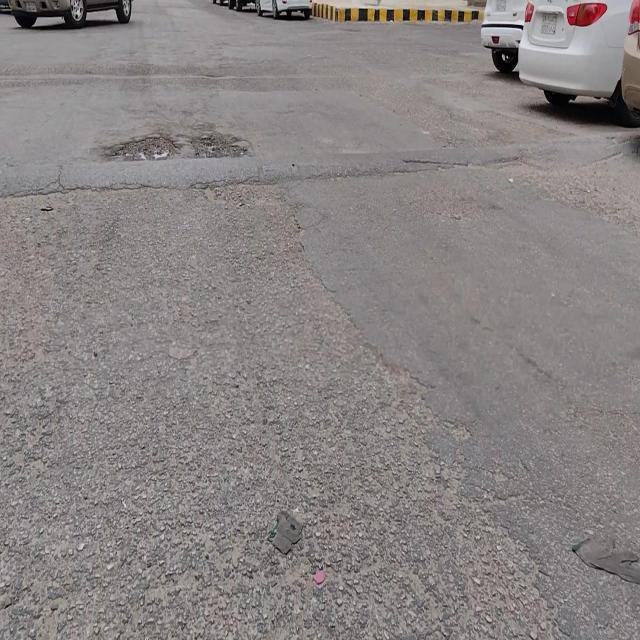Pothole: (110, 131, 175, 160), (190, 131, 243, 159)
